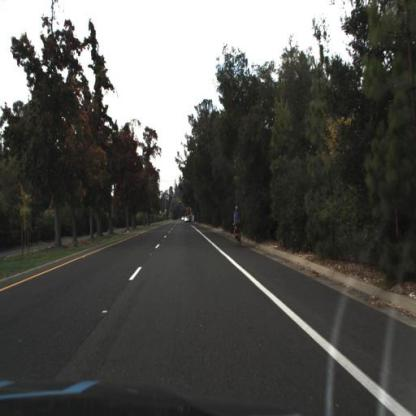biker: (233, 205, 242, 245)
